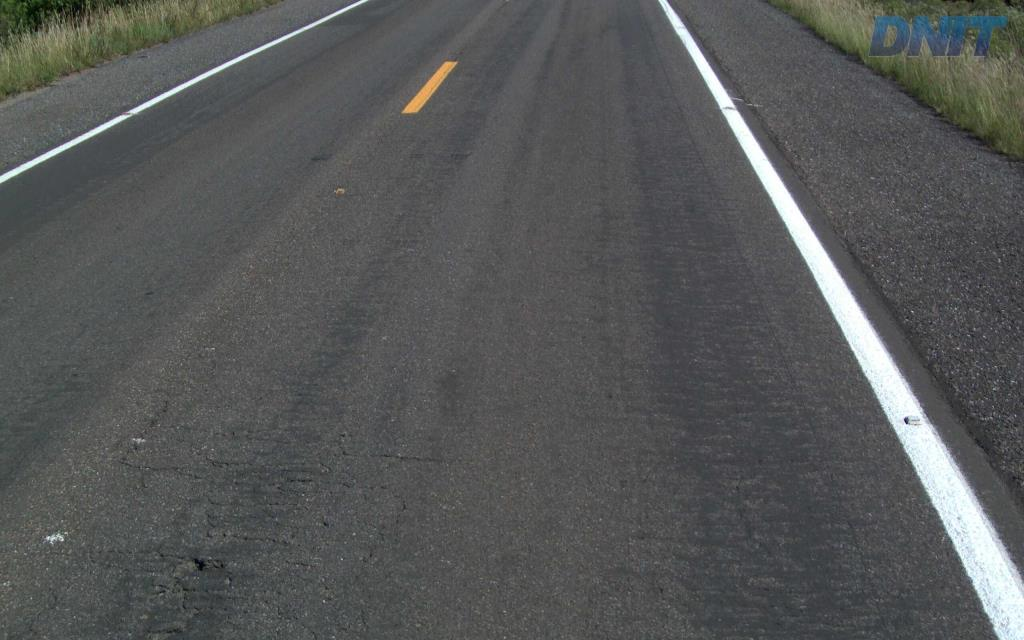crack: (171, 547, 238, 626)
